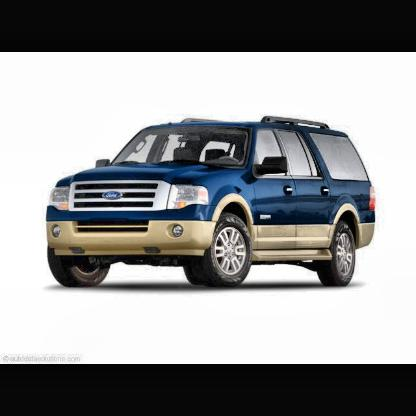Ford Expedition EL SUV 2009: (46, 117, 379, 291)
